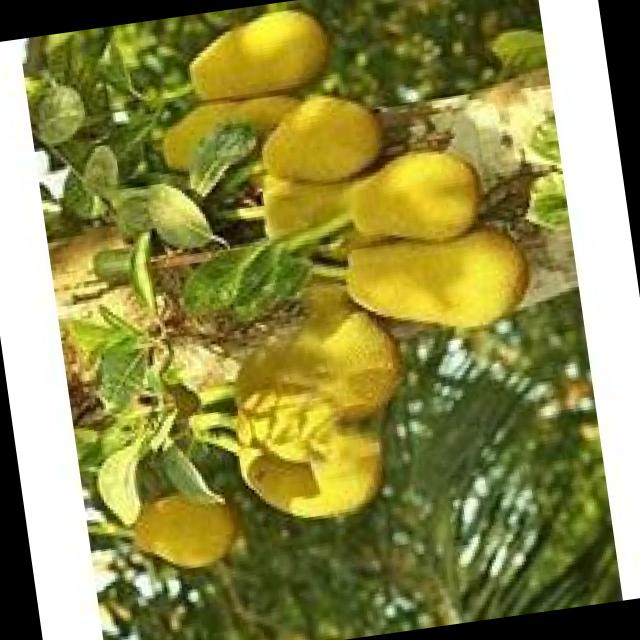Fruit: (186, 270, 444, 555), (318, 182, 552, 360)
